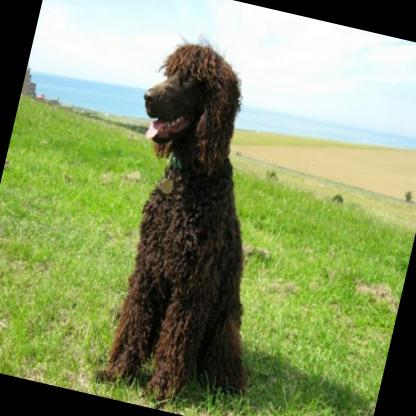Irish_water_spaniel: (74, 27, 318, 416)
